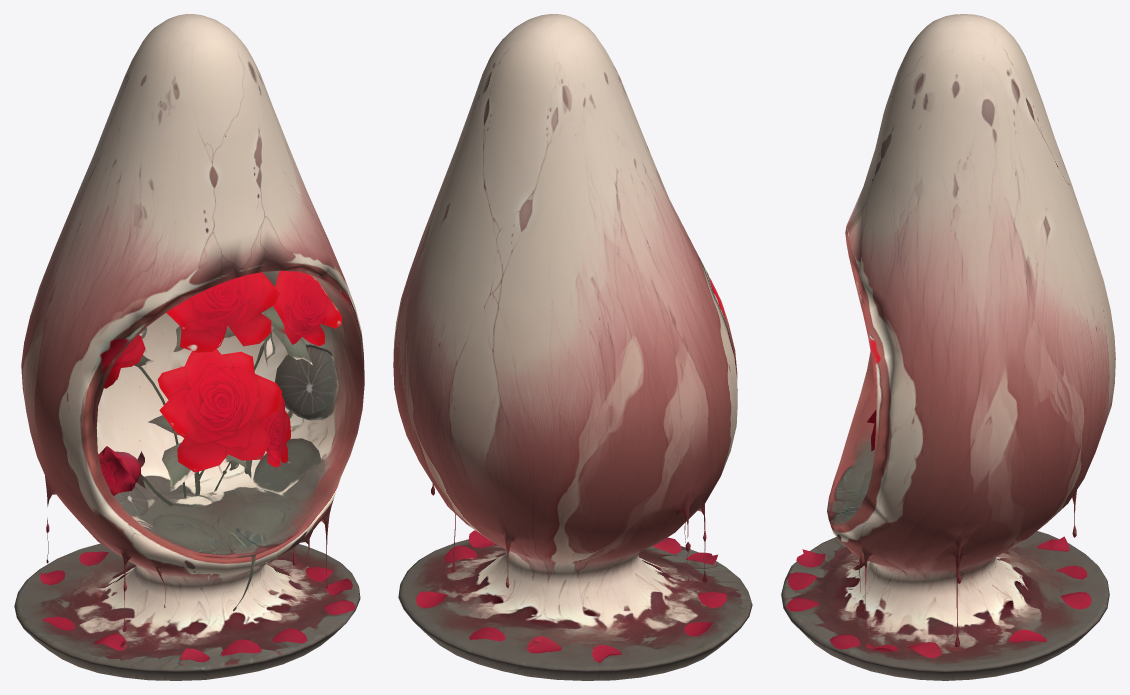
File: rose_cocoon_rtp.glb
The picture shows the model from 3 angles, left to right: view 1: azimuth 30°, elevation 25°; view 2: azimuth 150°, elevation 25°; view 3: azimuth 270°, elevation 25°; orthographic projection. The views are drawn at different scales.
Parts seen in each view (by area): view 1: tripo_node_7ecf6cdf-8f55-4402-bfc8-81383bd4ceef; view 2: tripo_node_7ecf6cdf-8f55-4402-bfc8-81383bd4ceef; view 3: tripo_node_7ecf6cdf-8f55-4402-bfc8-81383bd4ceef.
Part boxes in pixels (bbox=[...]): tripo_node_7ecf6cdf-8f55-4402-bfc8-81383bd4ceef: bbox=[14, 14, 364, 680]; tripo_node_7ecf6cdf-8f55-4402-bfc8-81383bd4ceef: bbox=[393, 14, 752, 680]; tripo_node_7ecf6cdf-8f55-4402-bfc8-81383bd4ceef: bbox=[781, 14, 1115, 680].
Bounding box in the file's own units: 0.5571 × 0.9995 × 0.5063.
Materials: 1 (1 with a texture image).
